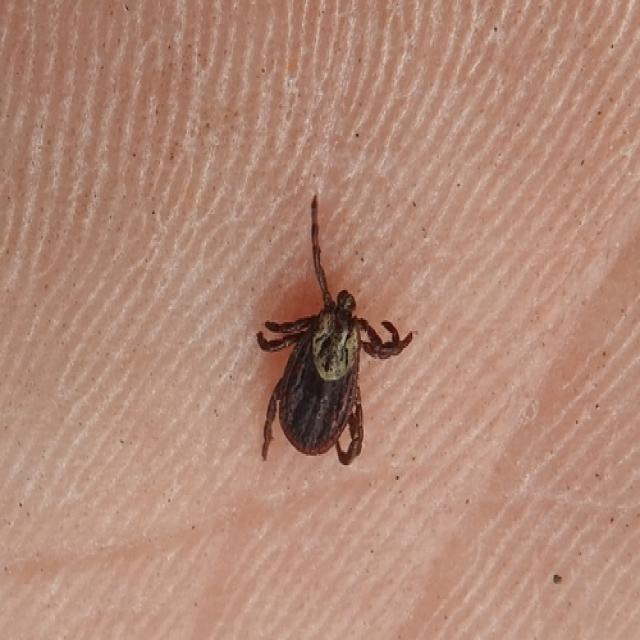Dermacentor Reticulatus-F: (256, 195, 415, 463)
